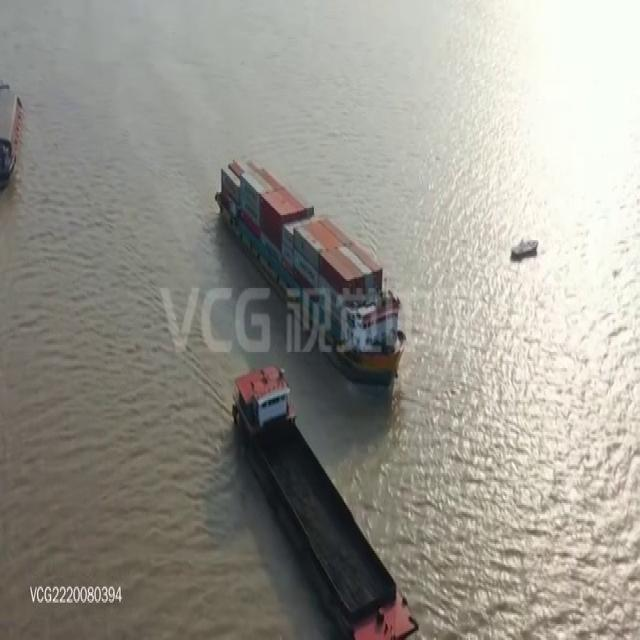cargoship: (225, 328, 406, 630), (205, 107, 411, 331)
